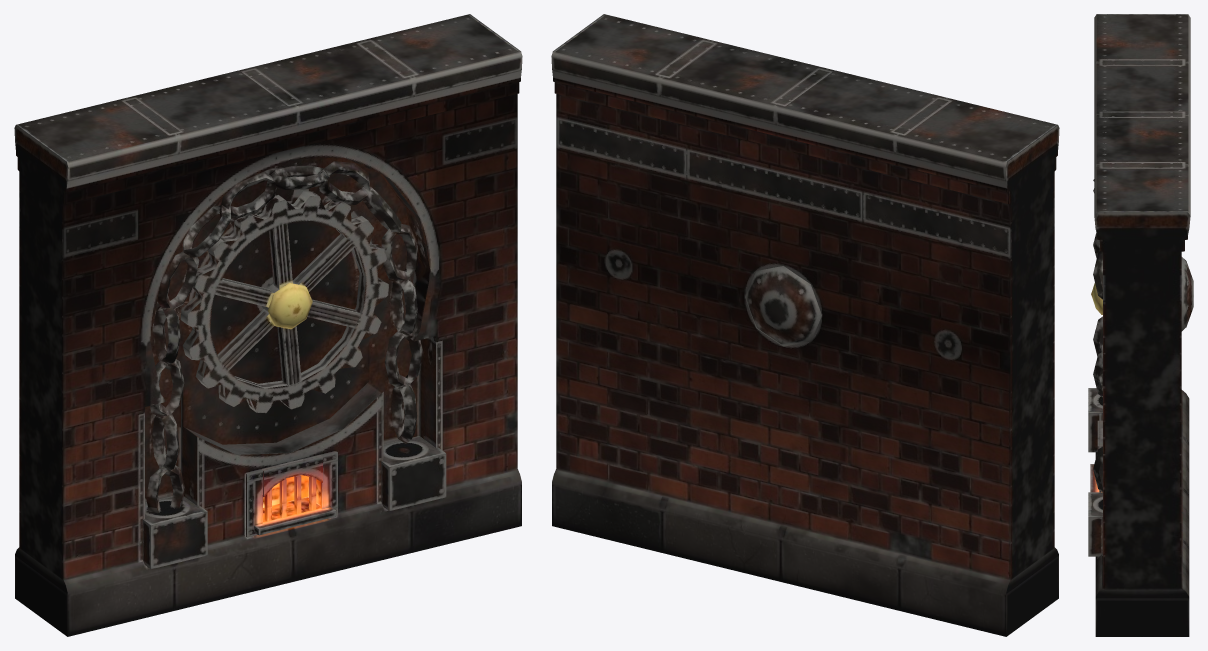
The model's file is foundry_wall_b.glb.
3 views of the same model, side by side, from view 1: azimuth 30°, elevation 25°; view 2: azimuth 150°, elevation 25°; view 3: azimuth 270°, elevation 25° (orthographic). The views are drawn at different scales.
Parts seen in each view (by area): view 1: foundry_wall_b; view 2: foundry_wall_b; view 3: foundry_wall_b.
Boxes of the visible parts, box(x1,y1,x2,y2) form: foundry_wall_b: box(14, 14, 522, 636); foundry_wall_b: box(551, 14, 1059, 636); foundry_wall_b: box(1088, 14, 1193, 636).
Size of the model in its own units: 4 by 3.99 by 0.895.
1 material, 1 textured.
